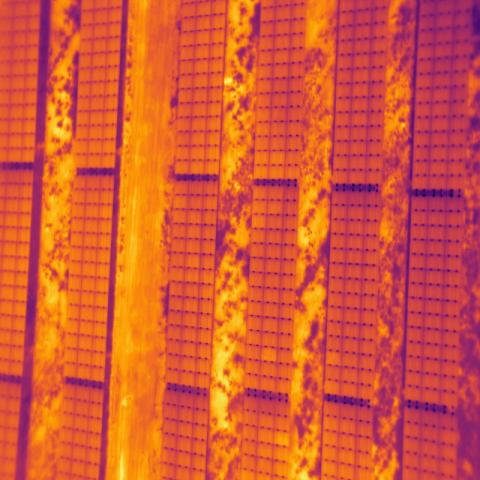fault: (260, 347, 277, 362), (326, 352, 342, 364)
